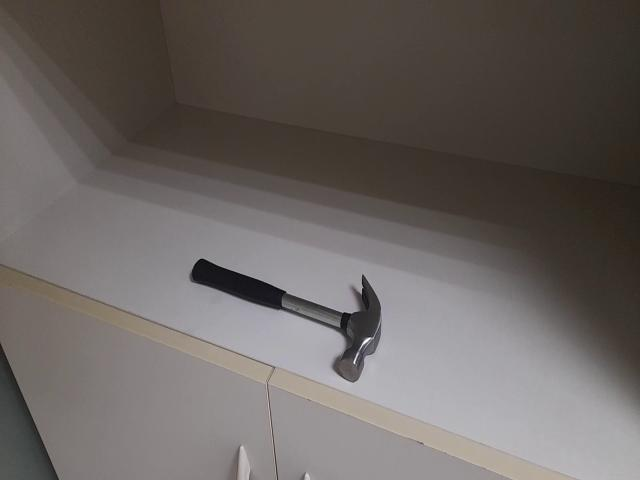Hammer: (191, 258, 381, 382)
